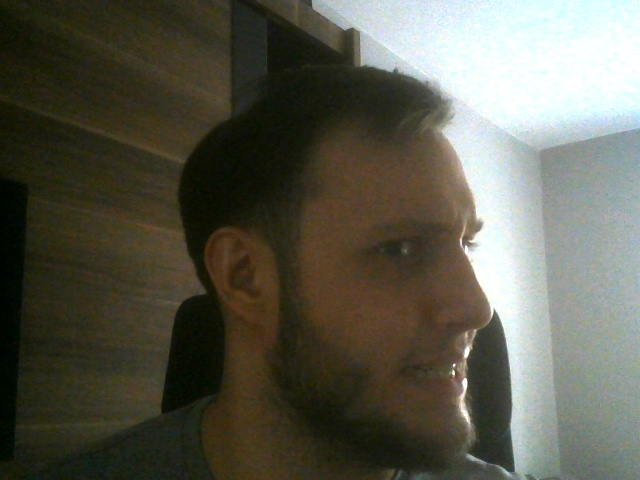angry: (175, 70, 494, 466)
